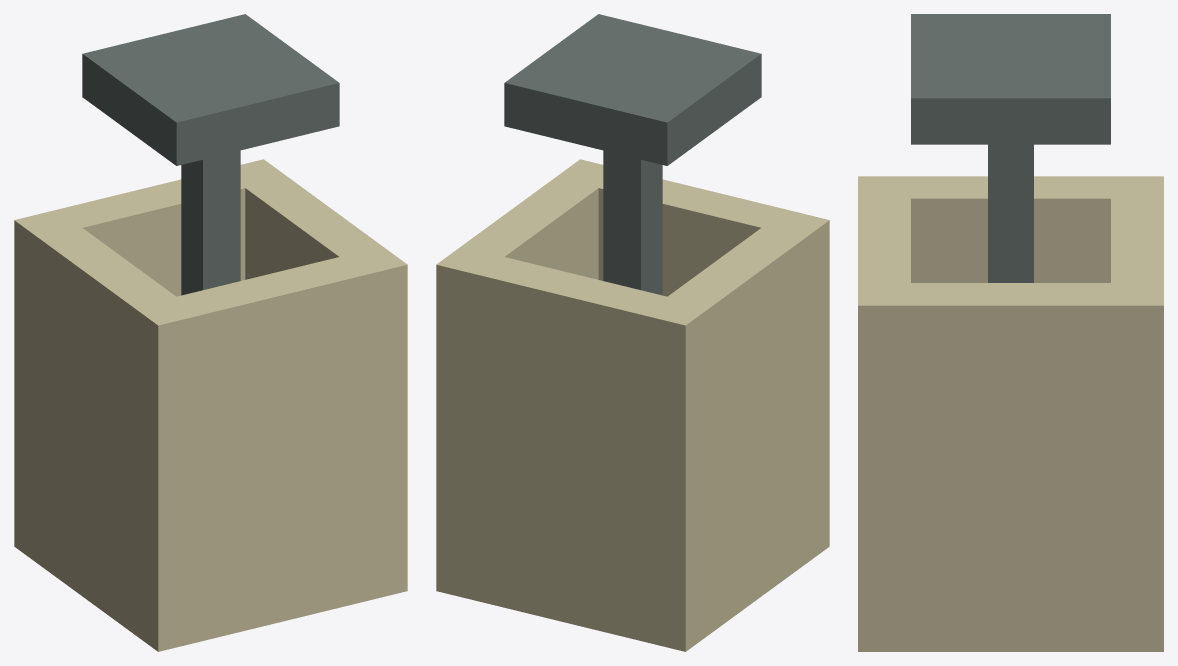
File: lampSquareCeiling.glb
3 renders of one model, left to right at view 1: azimuth 30°, elevation 25°; view 2: azimuth 150°, elevation 25°; view 3: azimuth 270°, elevation 25°, orthographic. The views are drawn at different scales.
Visible parts, largest first — view 1: lampSquareCeiling(Clone); view 2: lampSquareCeiling(Clone); view 3: lampSquareCeiling(Clone).
Part boxes in pixels (x1,y1,x2,y2): lampSquareCeiling(Clone): [14, 14, 407, 651]; lampSquareCeiling(Clone): [436, 14, 829, 651]; lampSquareCeiling(Clone): [858, 14, 1163, 651].
Size of the model in its own units: 0.12 by 0.23 by 0.12.
